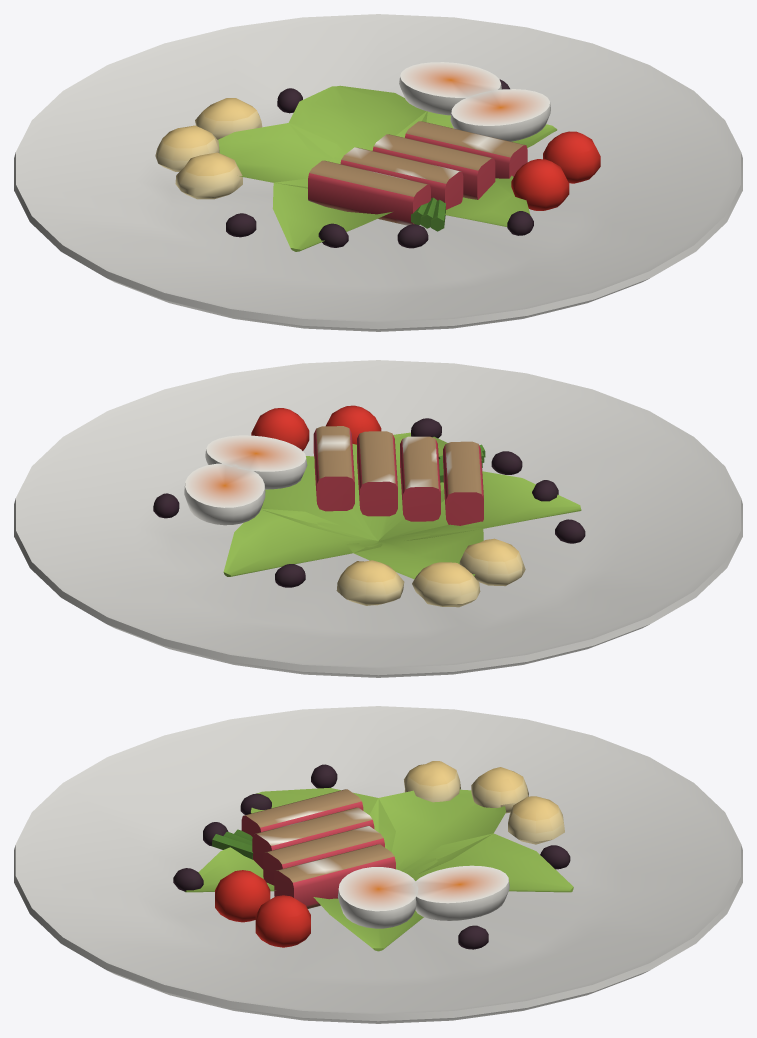
The model's file is dish-nicoise-lod1.glb.
3 views of the same model, one above another, from view 1: azimuth 30°, elevation 25°; view 2: azimuth 150°, elevation 25°; view 3: azimuth 270°, elevation 25° (orthographic).
Parts seen in each view (by area): view 1: nicoise.lod1__table porcelain, nicoise.lod1__food glaze, nicoise.lod1__food; view 2: nicoise.lod1__table porcelain, nicoise.lod1__food glaze, nicoise.lod1__food; view 3: nicoise.lod1__table porcelain, nicoise.lod1__food glaze, nicoise.lod1__food.
Part boxes in pixels (<box>): nicoise.lod1__table porcelain: <box>14,14,742,331</box>; nicoise.lod1__food glaze: <box>226,62,600,248</box>; nicoise.lod1__food: <box>155,85,557,251</box>; nicoise.lod1__table porcelain: <box>14,360,742,677</box>; nicoise.lod1__food glaze: <box>153,405,585,587</box>; nicoise.lod1__food: <box>223,432,581,607</box>; nicoise.lod1__table porcelain: <box>14,706,742,1023</box>; nicoise.lod1__food glaze: <box>173,764,570,949</box>; nicoise.lod1__food: <box>184,761,573,951</box>.
Bounding box in the file's own units: 0.27 × 0.037 × 0.2685.
